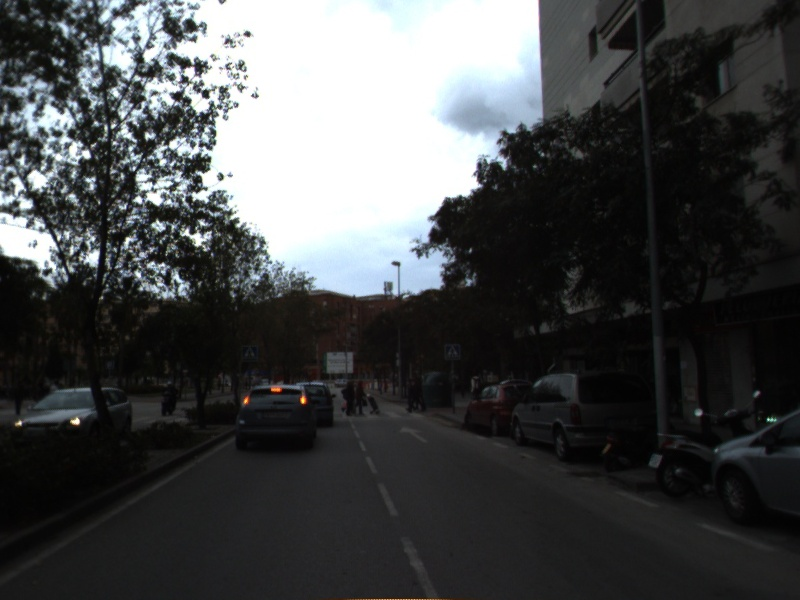STRAIGHT: (397, 424, 433, 445)
